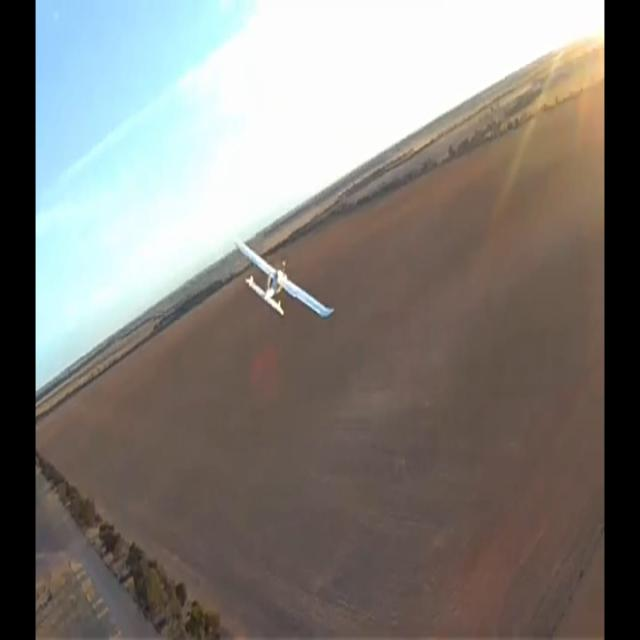iha: (266, 269, 302, 289)
